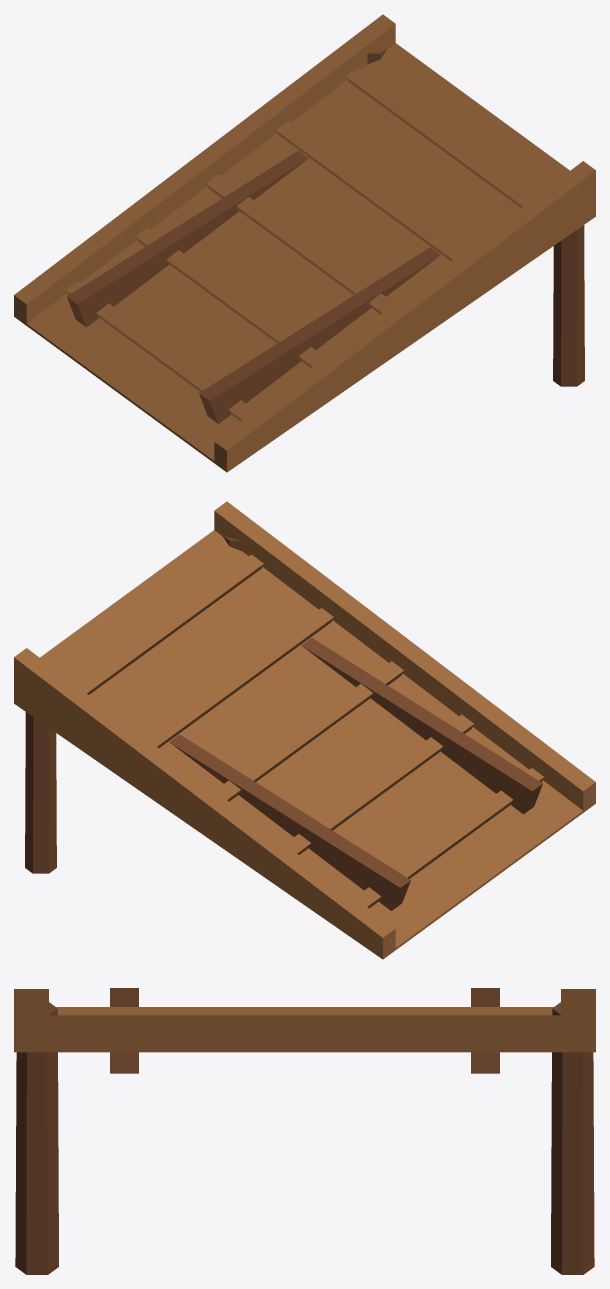
The model's file is ramp 2.glb.
3 renders of one model, top to bottom at view 1: azimuth 30°, elevation 25°; view 2: azimuth 150°, elevation 25°; view 3: azimuth 270°, elevation 25°, orthographic. The views are drawn at different scales.
Parts seen in each view (by area): view 1: Deck_Slope, Kerb_0, Kerb_1, Stringer_0, Stringer_1, Head_Post_0, Cleat_4, Cleat_3, Cleat_2, Cleat_1, Cleat_0; view 2: Deck_Slope, Kerb_1, Kerb_0, Stringer_1, Stringer_0, Head_Post_1, Cleat_4, Cleat_3, Cleat_2, Cleat_1, Cleat_0; view 3: Deck_Slope, Head_Post_0, Head_Post_1, Cleat_4, Stringer_0, Stringer_1, Kerb_1, Kerb_0.
Boxes of the visible parts, <box> form: Deck_Slope: <box>14,43,595,472</box>; Kerb_0: <box>214,161,595,471</box>; Kerb_1: <box>14,14,395,323</box>; Stringer_0: <box>199,247,440,423</box>; Stringer_1: <box>67,151,308,327</box>; Head_Post_0: <box>553,225,584,386</box>; Cleat_4: <box>346,67,535,207</box>; Cleat_3: <box>276,121,464,260</box>; Cleat_2: <box>206,174,394,314</box>; Cleat_1: <box>136,227,324,367</box>; Cleat_0: <box>65,281,254,421</box>; Deck_Slope: <box>14,530,595,959</box>; Kerb_1: <box>14,648,395,958</box>; Kerb_0: <box>214,501,595,810</box>; Stringer_1: <box>169,734,410,910</box>; Stringer_0: <box>301,638,542,814</box>; Head_Post_1: <box>25,712,56,873</box>; Cleat_4: <box>74,554,263,694</box>; Cleat_3: <box>145,608,333,747</box>; Cleat_2: <box>215,661,403,801</box>; Cleat_1: <box>285,714,473,854</box>; Cleat_0: <box>355,768,544,908</box>; Deck_Slope: <box>14,1015,595,1052</box>; Head_Post_0: <box>15,1002,58,1274</box>; Head_Post_1: <box>551,1002,594,1274</box>; Cleat_4: <box>56,1007,553,1015</box>; Stringer_0: <box>110,988,138,1073</box>; Stringer_1: <box>471,988,499,1073</box>; Kerb_1: <box>561,989,595,1017</box>; Kerb_0: <box>14,989,48,1017</box>.
Bounding box in the file's own units: 2 × 1.1 × 2.
